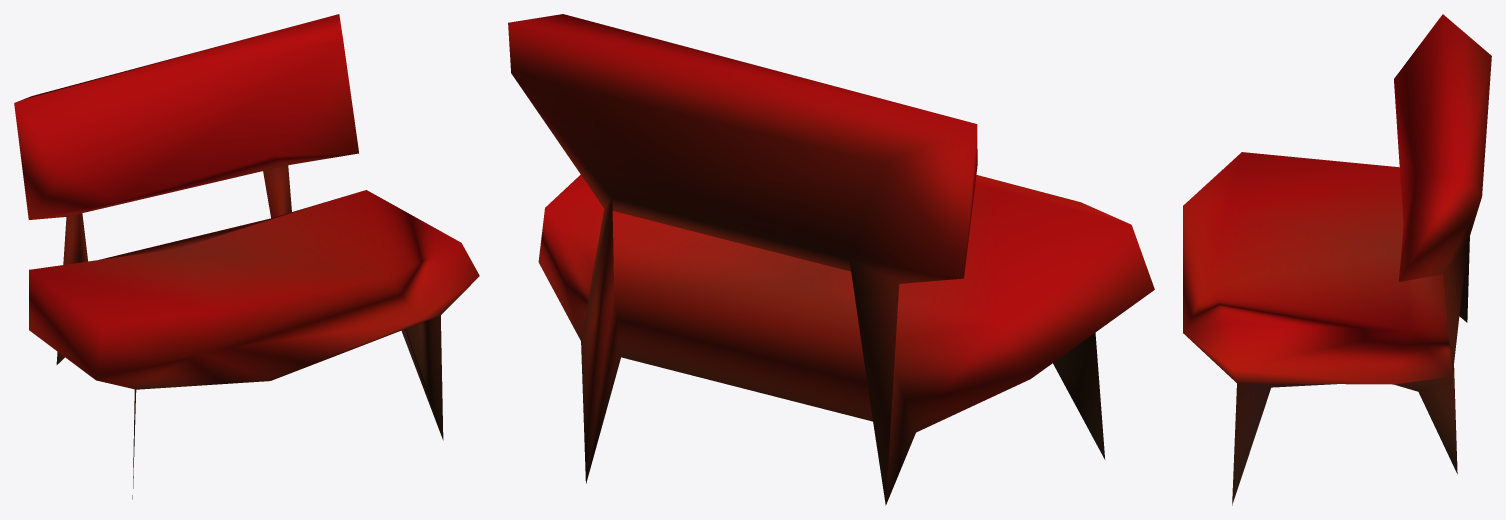
Rendered from SheenChair_256B_mesh.glb.
The picture shows the model from 3 angles, left to right: view 1: azimuth 30°, elevation 25°; view 2: azimuth 150°, elevation 25°; view 3: azimuth 270°, elevation 25°; orthographic projection. The views are drawn at different scales.
Size of the model in its own units: 2 by 1.69 by 1.41.
